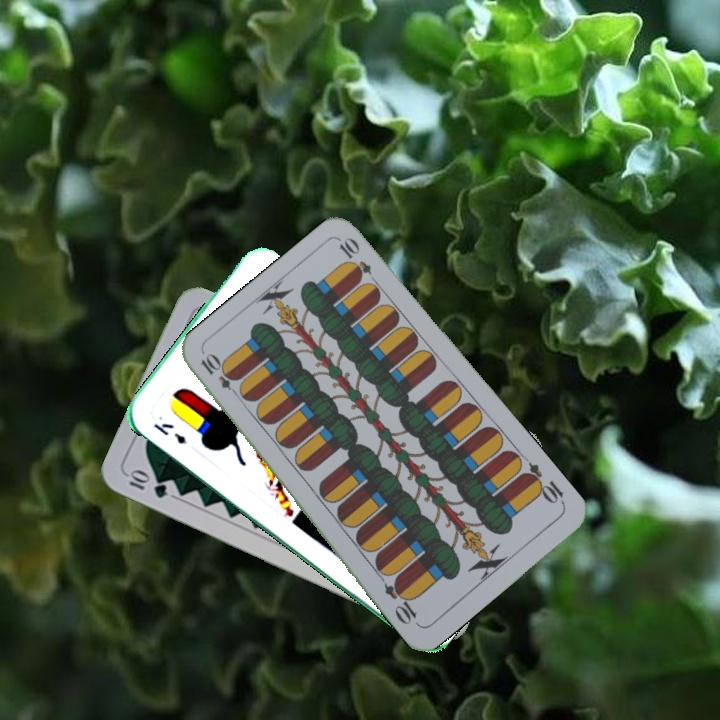E10: (518, 459, 568, 508), (196, 350, 244, 401)
EK: (150, 419, 190, 447)
G10: (123, 467, 170, 501)
